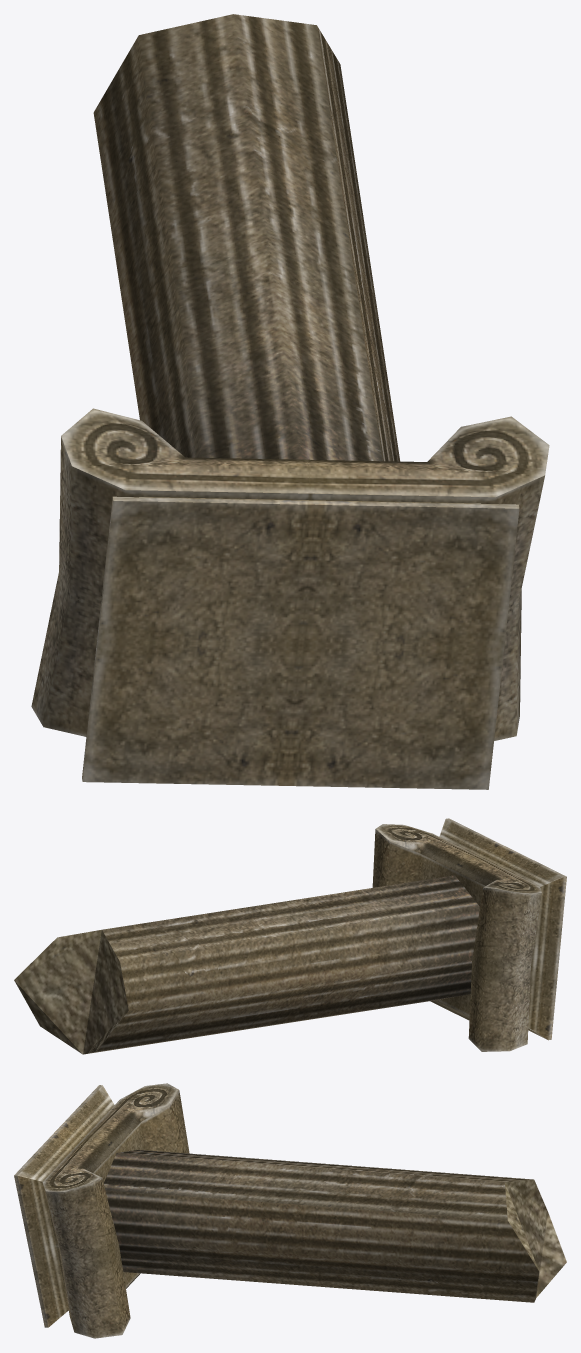
The model's file is cot3.fbx.
3 views of the same model, one above another, from view 1: azimuth 30°, elevation 25°; view 2: azimuth 150°, elevation 25°; view 3: azimuth 270°, elevation 25° (orthographic). The views are drawn at different scales.
Visible parts, largest first — view 1: Object067; view 2: Object067; view 3: Object067.
Boxes of the visible parts, x1,y1,x2,y2 form: Object067: (31,14,549,789); Object067: (14,818,566,1054); Object067: (14,1083,566,1338).
Bounding box in the file's own units: 393 × 220 × 564.
Materials: 1 (1 with a texture image).
